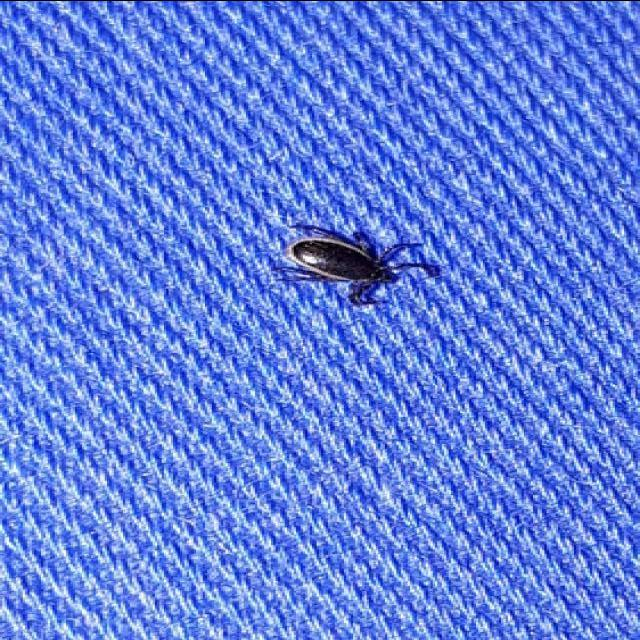Ixodes Ricinus-M: (271, 223, 442, 306)
